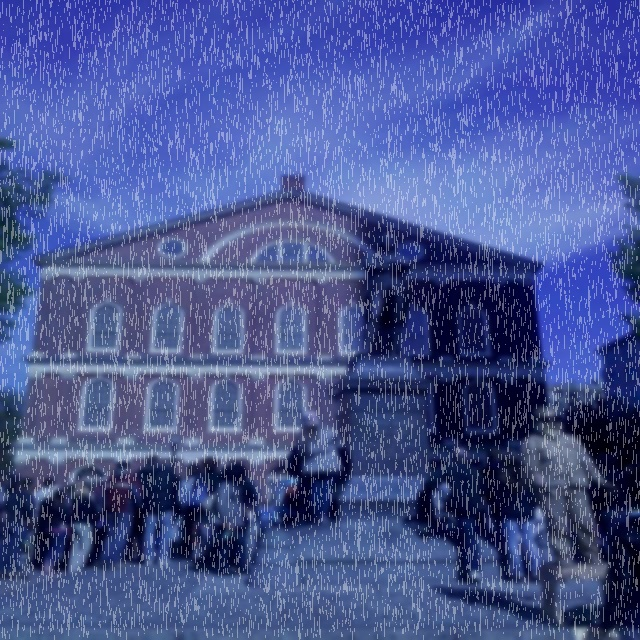pessoa: (519, 406, 640, 572), (409, 446, 487, 584), (489, 450, 542, 584), (356, 233, 414, 354), (296, 410, 346, 524), (596, 508, 639, 639), (98, 458, 146, 570), (210, 465, 256, 576), (134, 454, 178, 565), (214, 463, 258, 561), (178, 462, 216, 562), (3, 476, 38, 580), (190, 456, 224, 562), (68, 485, 100, 573), (41, 488, 72, 576), (36, 484, 64, 571), (276, 465, 306, 528), (228, 462, 261, 515), (478, 447, 504, 513), (31, 478, 58, 527), (173, 474, 186, 559), (90, 481, 106, 542), (476, 467, 489, 530), (130, 511, 145, 561), (2, 474, 24, 499), (258, 499, 274, 532), (274, 494, 288, 531), (69, 476, 92, 489), (268, 498, 277, 510), (182, 472, 192, 480), (200, 468, 207, 474)
